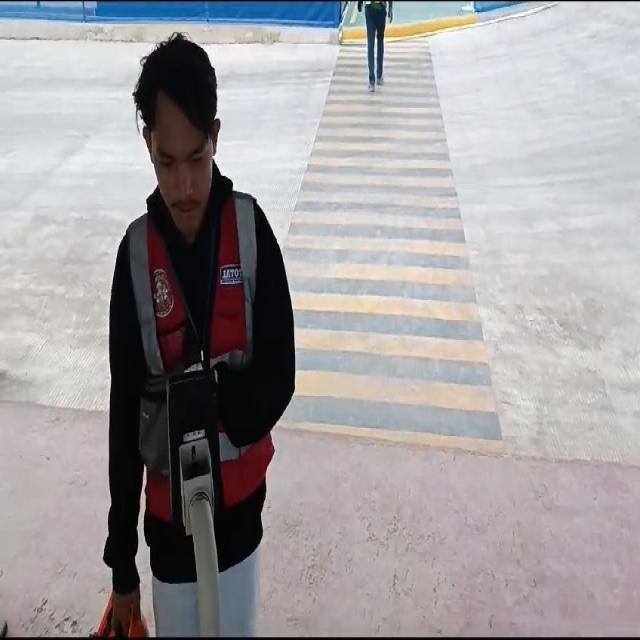safety_vest: (146, 190, 258, 520)
